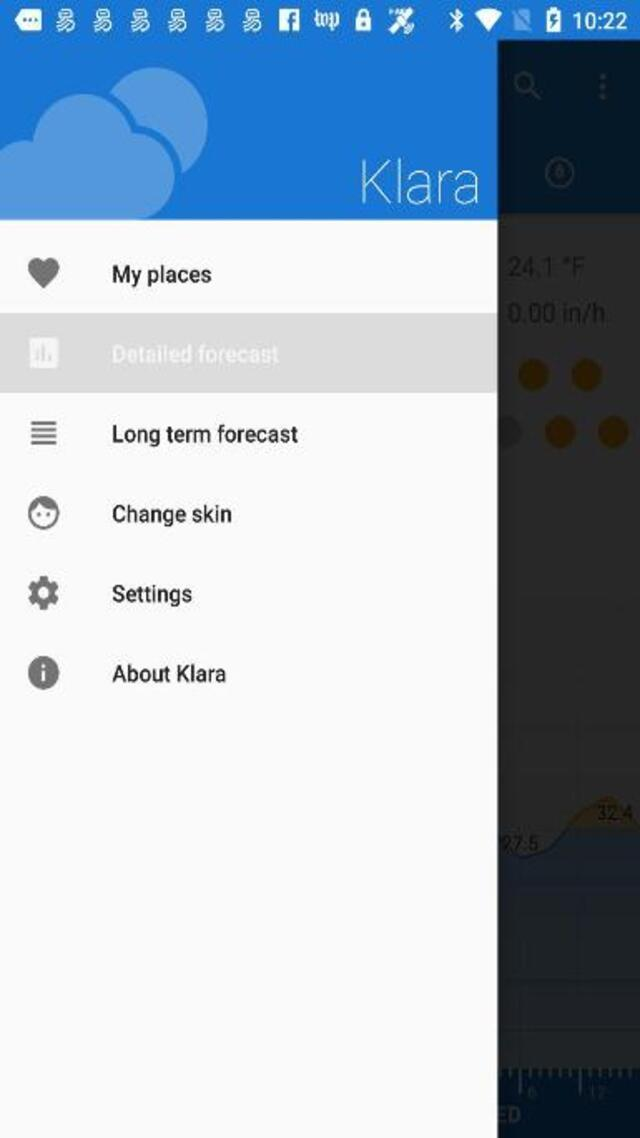Icon: (27, 655, 59, 689), (27, 495, 59, 529), (27, 258, 59, 290), (28, 575, 58, 609), (29, 337, 57, 367), (29, 420, 56, 444)
Text: (363, 158, 478, 204), (114, 424, 298, 447), (113, 344, 279, 364), (112, 504, 230, 527), (112, 662, 227, 682), (114, 264, 212, 287), (113, 584, 193, 607)
